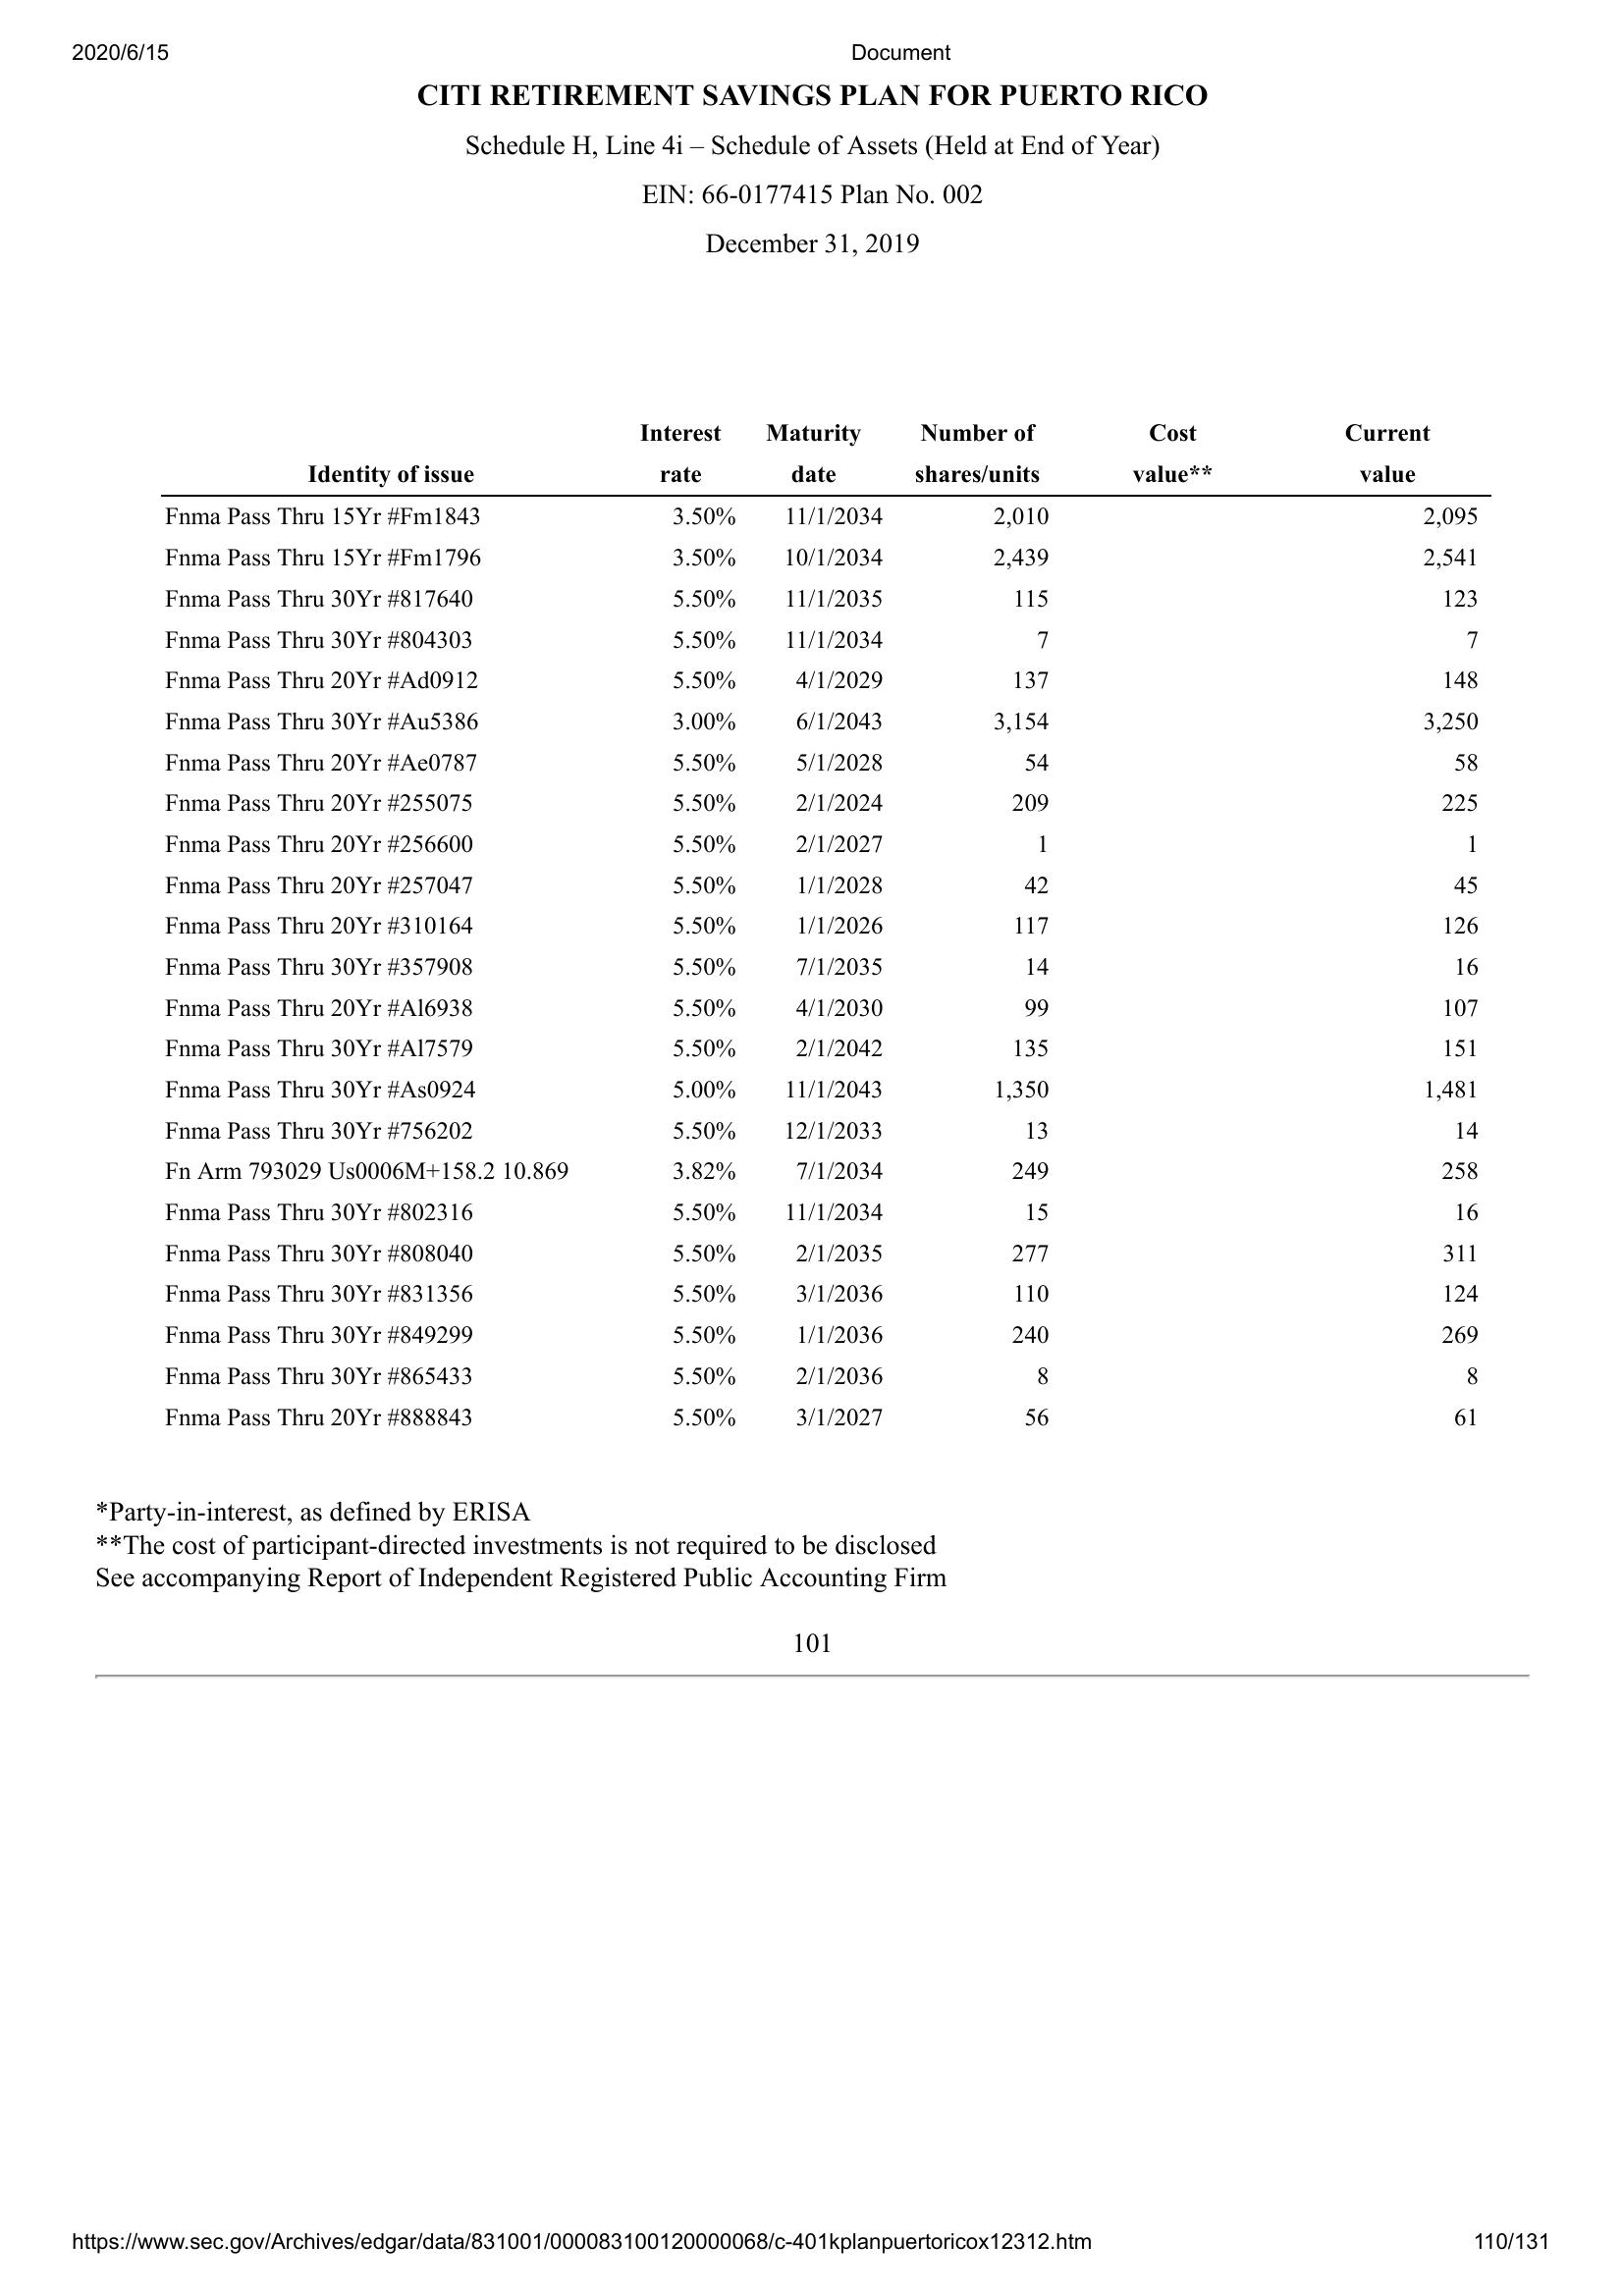table: (153, 421, 1484, 1446)
